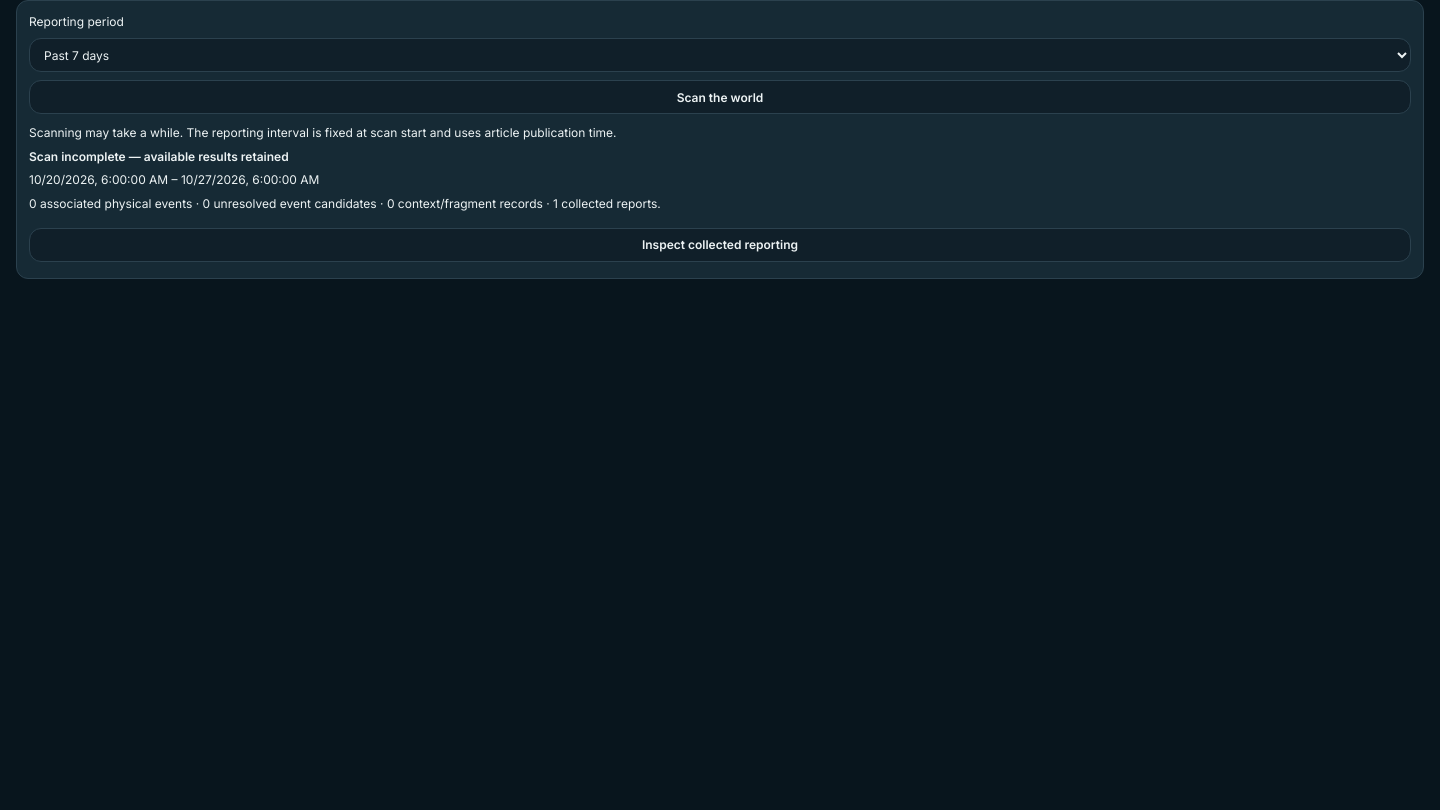
Test: opens unclassified collected evidence without requiring a hazard event
What coordinates should you click on to do the following:
click the button "Inspect collected reporting"
I would click on:
 (720, 245)
Its box is [29,228,1411,262].
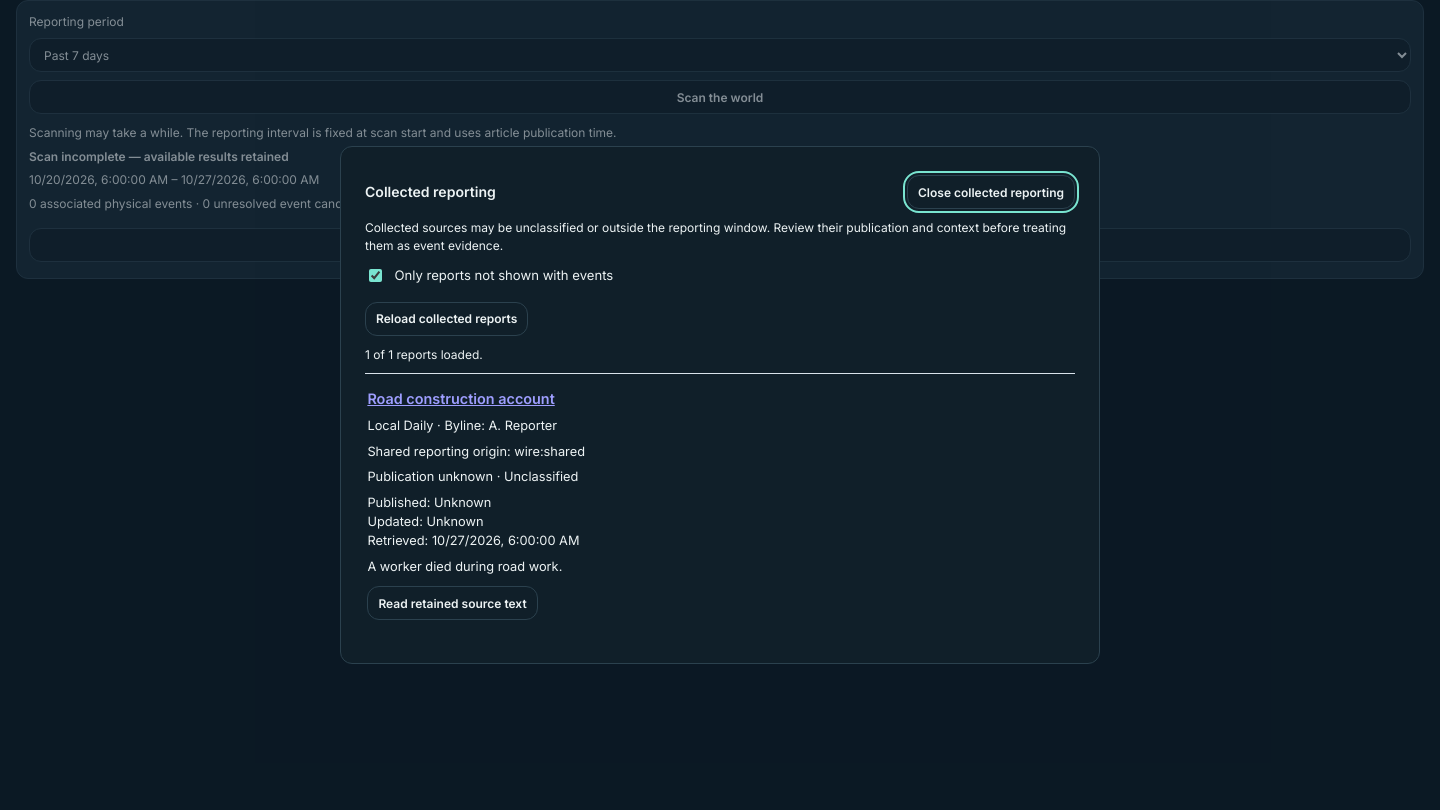
Result: the text "Publication unknown · Unclassified" is shown at [367,469,578,484]
Result: the text "Local Daily · Byline: A. Reporter" is shown at [367,418,557,433]
What coordinates should you click on to do the following:
click the button "Read retained source text"
I would click on:
 (453, 603)
Its box is [367,586,538,620].
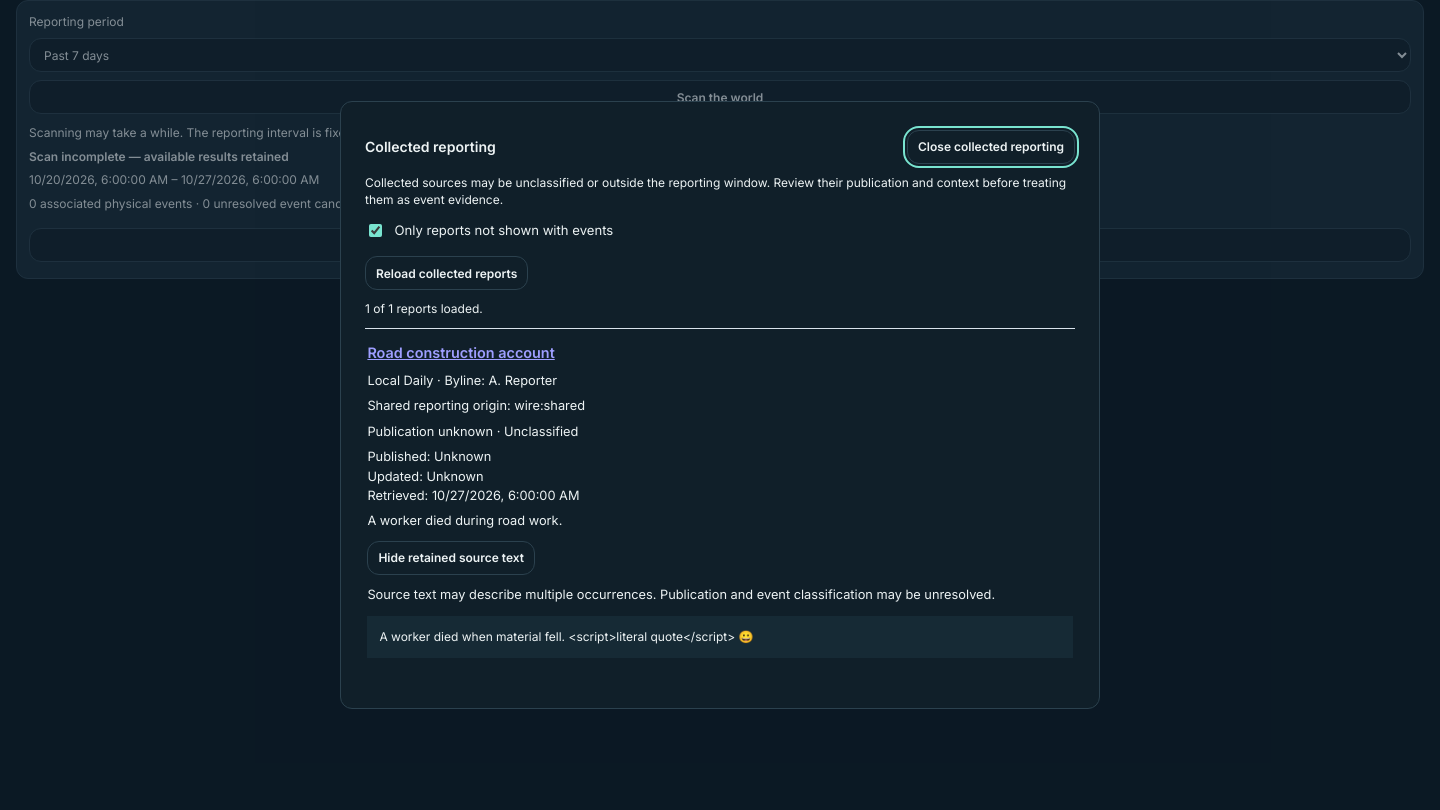
Result: the text "A worker died when material fell. <script>literal quote</script> 😀" is shown at [367,616,1073,658]
